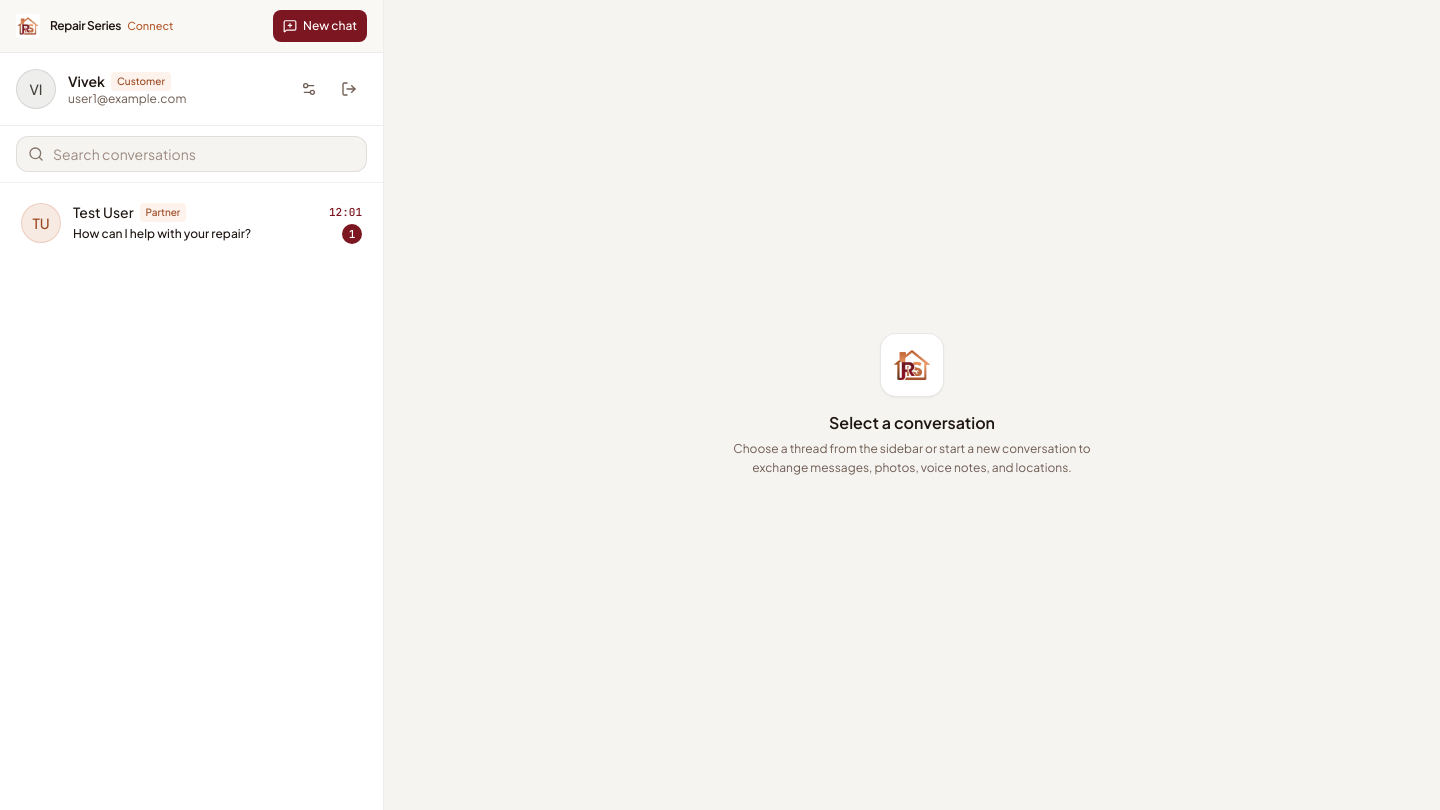
Test: RepairChat SDK & Chat Flow › filters conversations by search query in sidebar
Check: the text "Test User" is shown, box 73,202 -> 134,222
Type "nonexistent-person" into the field labelled "Search conversations" at (192, 154), box 16,136 -> 367,172
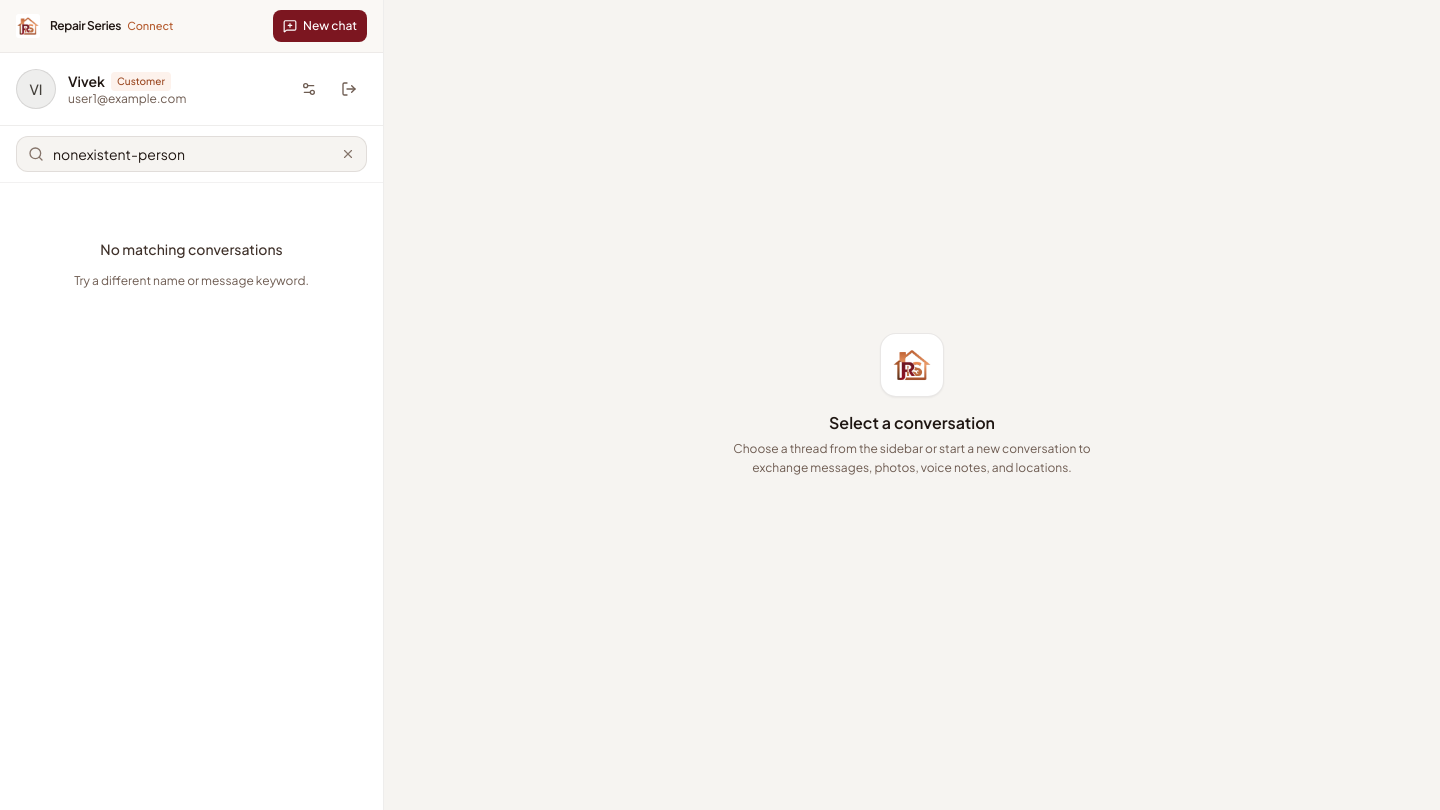
Check: the text "No matching conversations" is shown, box 100,240 -> 283,258
Click the button named "Clear search" at (348, 154), box 339,145 -> 357,163
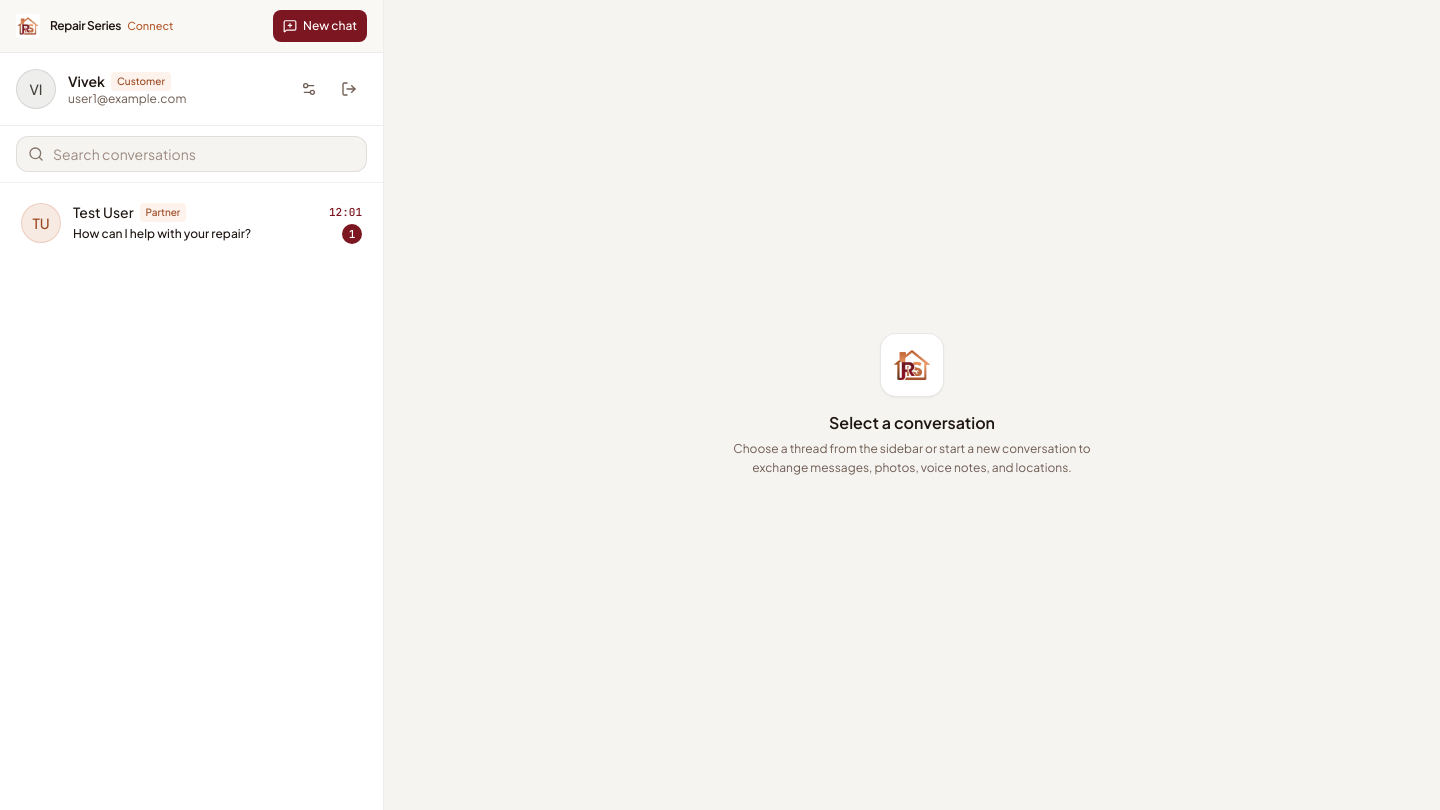
Check: the text "Test User" is shown, box 73,202 -> 134,222
